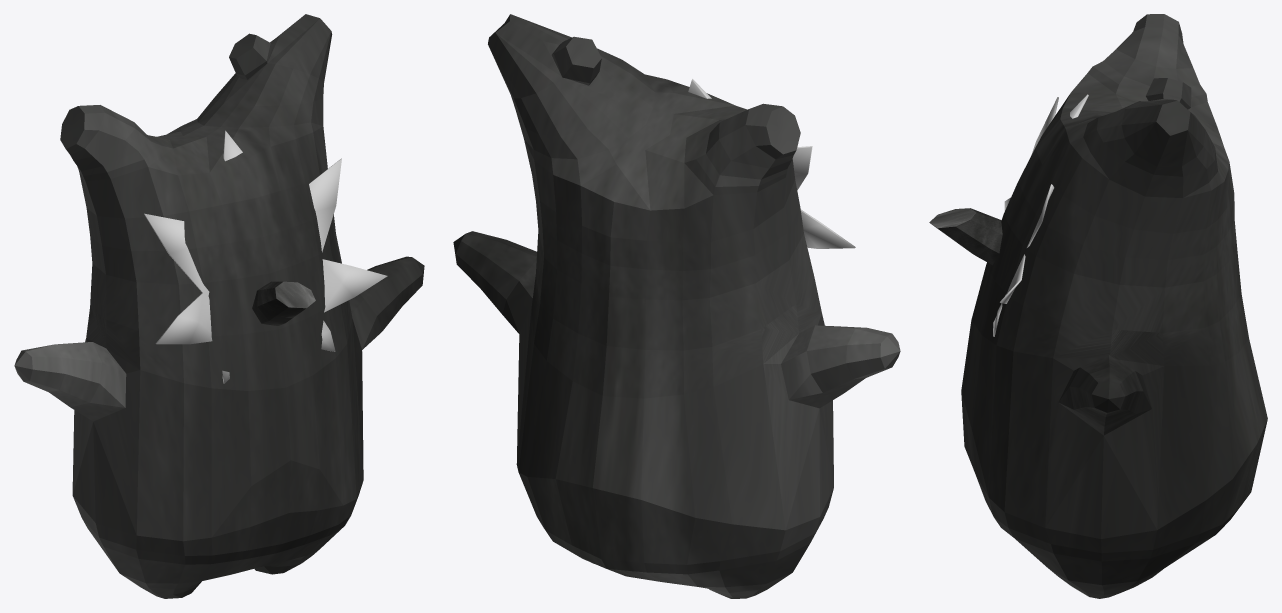
Rendered from frame_0031.obj.
The picture shows the model from 3 angles, left to right: view 1: azimuth 30°, elevation 25°; view 2: azimuth 150°, elevation 25°; view 3: azimuth 270°, elevation 25°; orthographic projection. The views are drawn at different scales.
Visible parts, largest first — view 1: korok, leaf, nose.003_柱体.011; view 2: korok, leaf; view 3: korok, nose.003_柱体.011, leaf.
Boxes of the visible parts, bbox=[...] form: korok: bbox=[14, 14, 424, 598]; leaf: bbox=[144, 130, 387, 383]; nose.003_柱体.011: bbox=[252, 281, 315, 325]; korok: bbox=[453, 14, 900, 598]; leaf: bbox=[688, 79, 855, 248]; korok: bbox=[961, 14, 1267, 598]; nose.003_柱体.011: bbox=[929, 208, 1002, 265]; leaf: bbox=[993, 94, 1088, 336].
Size of the model in its own units: 1.86 by 2.22 by 1.29.
